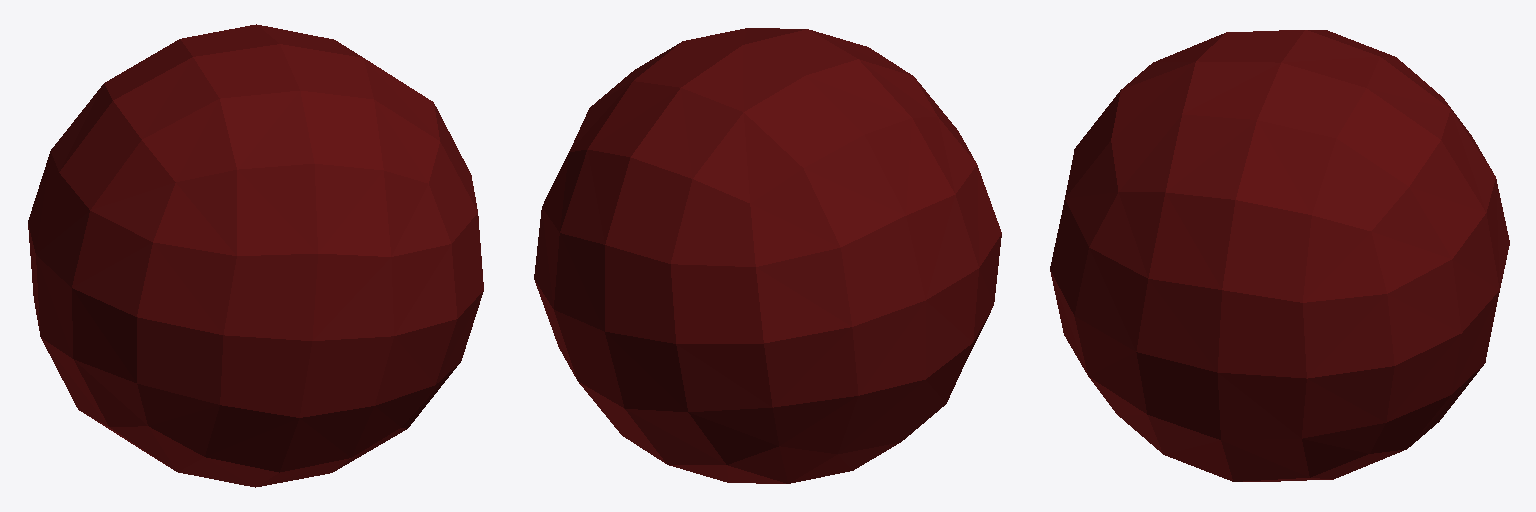
File: rshoulder.obj
3 renders of one model, left to right at view 1: azimuth 30°, elevation 25°; view 2: azimuth 150°, elevation 25°; view 3: azimuth 270°, elevation 25°, orthographic.
Visible parts, largest first — view 1: polySurface7 IronMan:null_111; view 2: polySurface7 IronMan:null_111; view 3: polySurface7 IronMan:null_111.
Part boxes in pixels (x1,y1,x2,y2): polySurface7 IronMan:null_111: (28,24,483,487); polySurface7 IronMan:null_111: (534,28,1001,483); polySurface7 IronMan:null_111: (1050,30,1509,481).
Size of the model in its own units: 17.97 by 17.85 by 18.12.